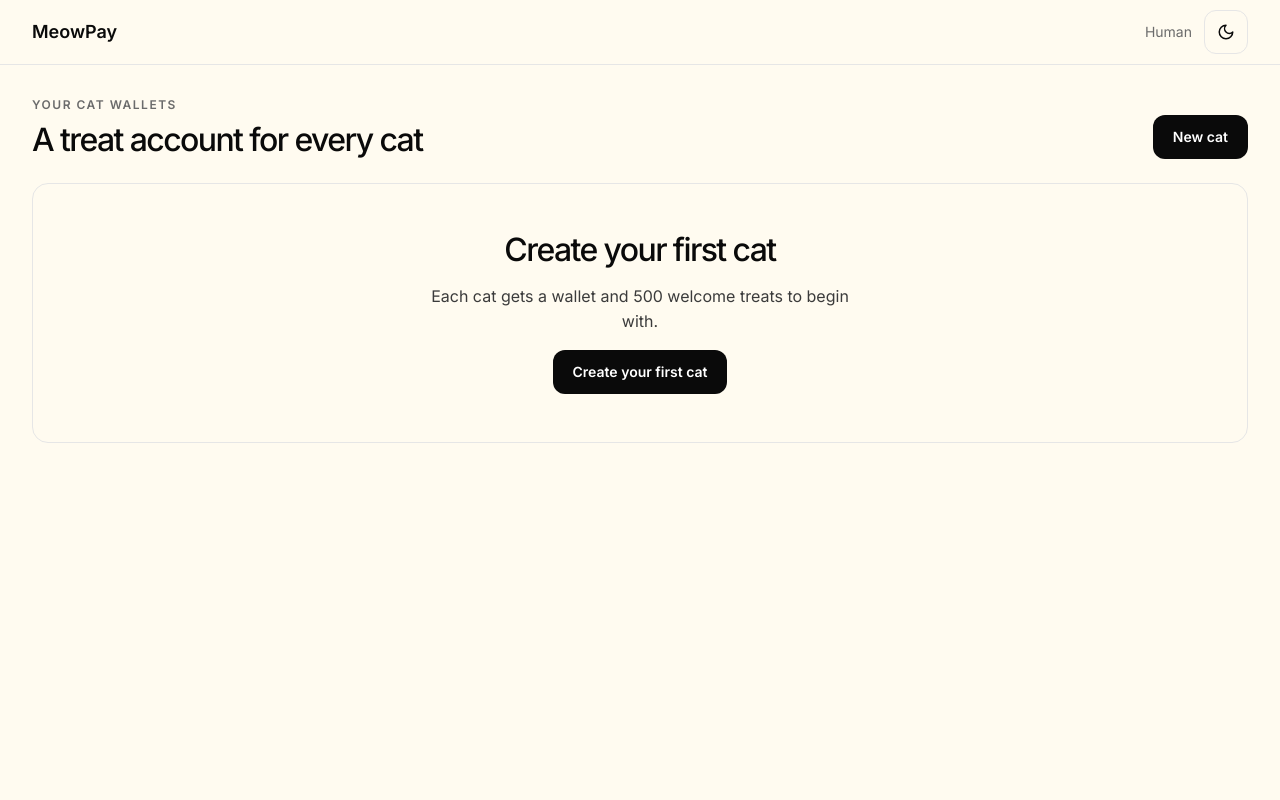
CatManagementDashboard › offers cat creation from the empty state
Check: the heading "Create your first cat" is shown, box top-left (504, 232), bottom-right (776, 268)
Click the button "Create your first cat". click: {"x": 640, "y": 372}
box: top-left (552, 350), bottom-right (728, 394)
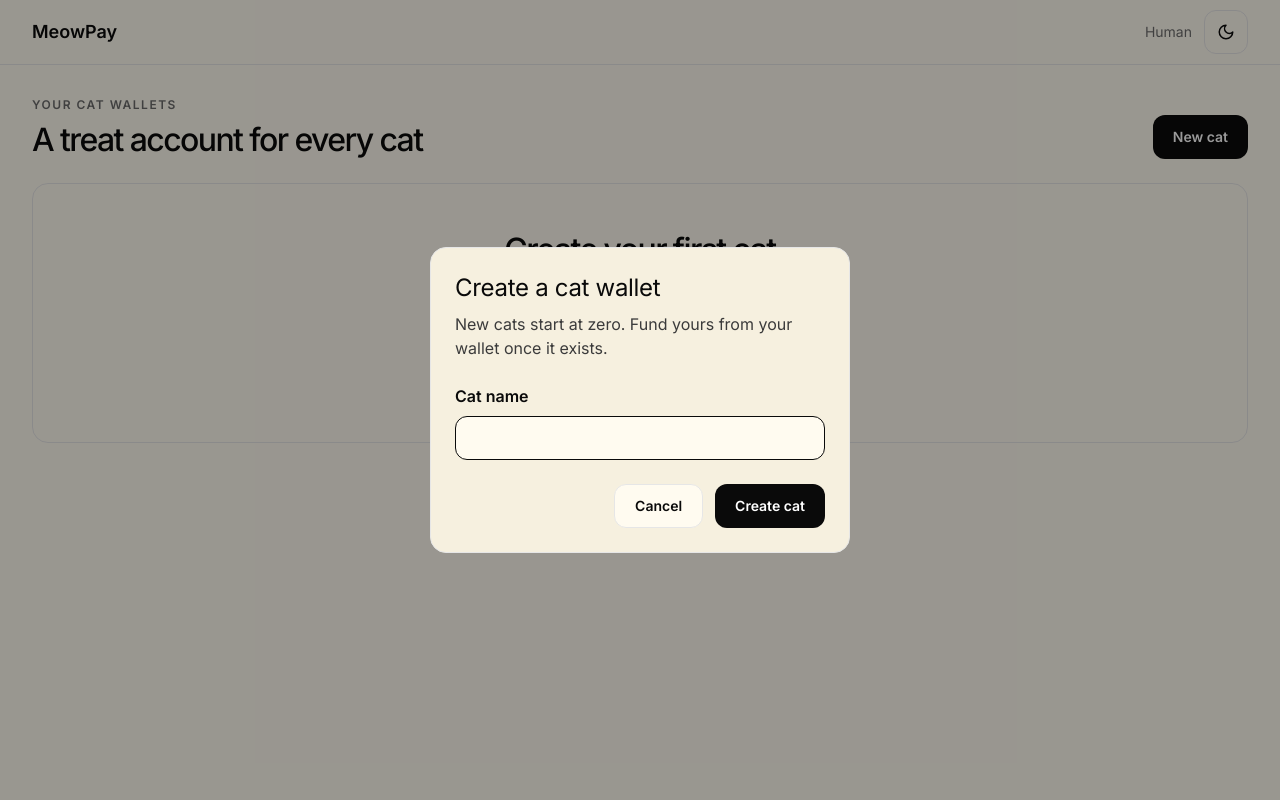
Check: the dialog is shown
